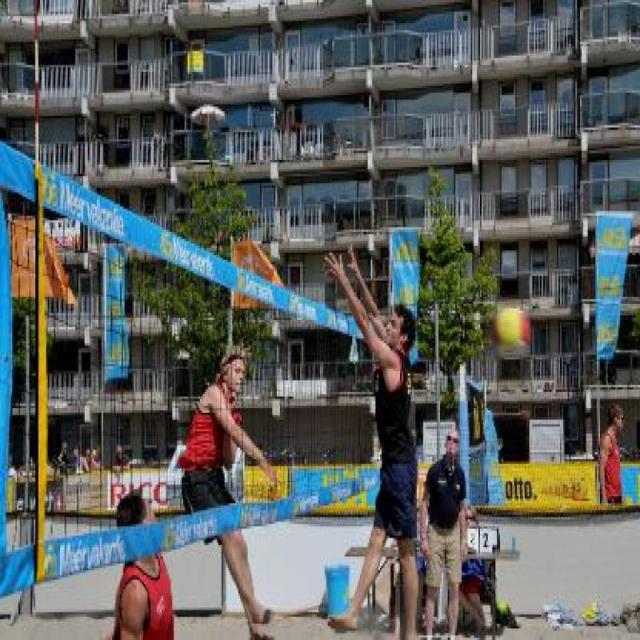volleyball: (492, 306, 531, 360)
